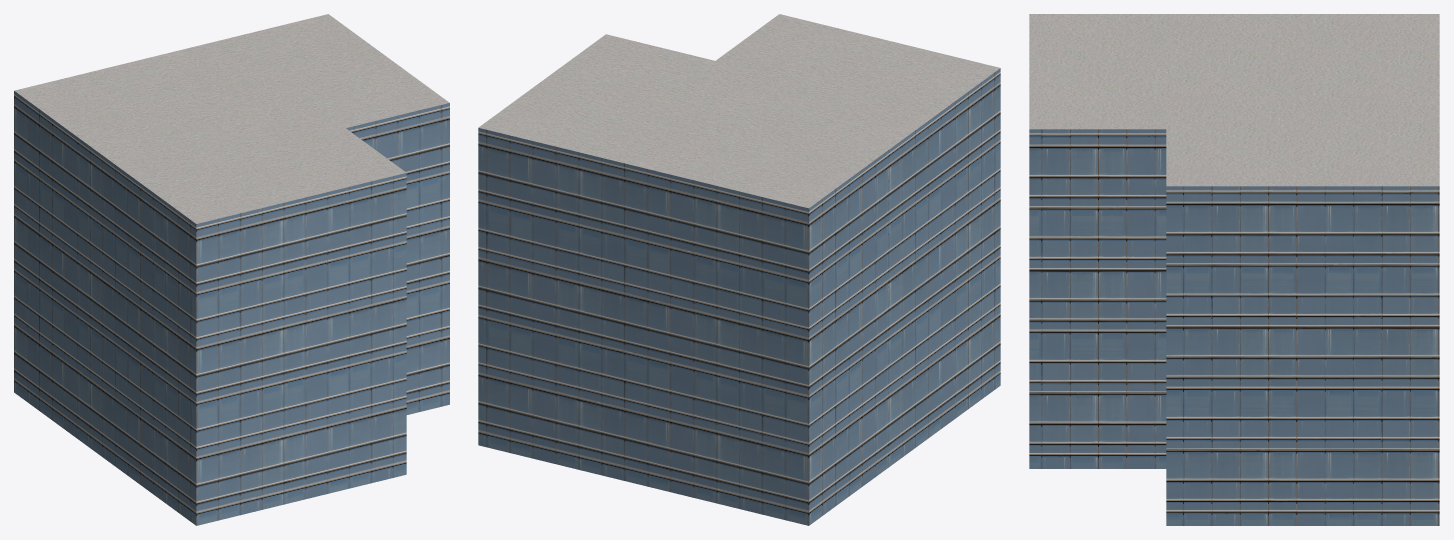
File: building_020_001.glb
3 views of the same model, side by side, from view 1: azimuth 30°, elevation 25°; view 2: azimuth 150°, elevation 25°; view 3: azimuth 270°, elevation 25° (orthographic). The views are drawn at different scales.
Parts seen in each view (by area): view 1: building_020.001; view 2: building_020.001; view 3: building_020.001.
Part boxes in pixels (<box>): building_020.001: <box>14,14,449,525</box>; building_020.001: <box>478,14,1000,525</box>; building_020.001: <box>1029,14,1439,525</box>.
Size of the model in its own units: 1308 by 1200 by 1314.
Materials: 2 (2 with a texture image).
